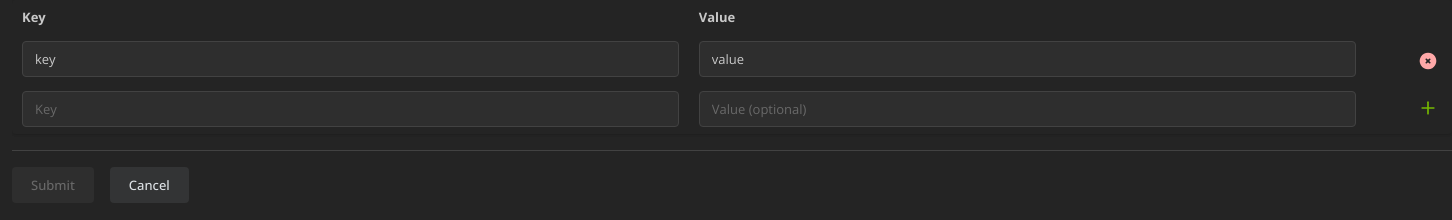
Test case: TagFormTable › enables submit when only a tag value is changed
Check: the button "Submit" is disabled, box left=12, top=167, right=94, bottom=203
Type "_updated" into the field showing "value" at (1027, 59), box left=699, top=41, right=1356, bottom=77
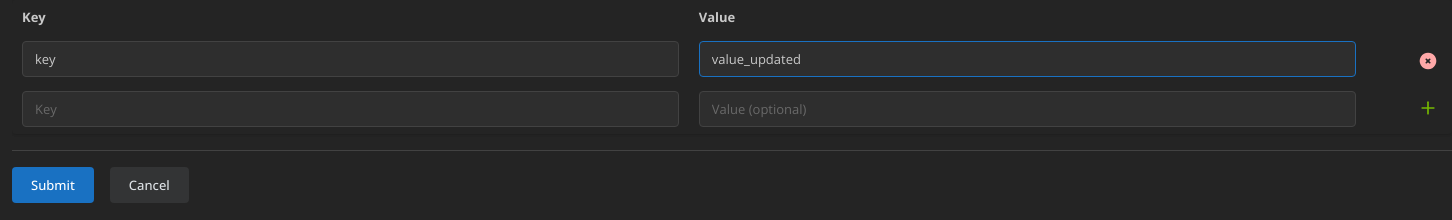
Check: the button "Submit" is enabled, box left=12, top=167, right=94, bottom=203
